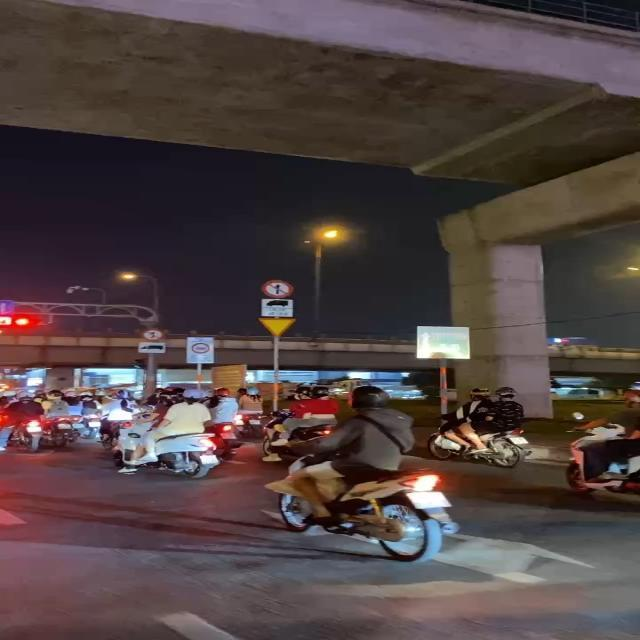136-cam-di-thang: (260, 279, 294, 298), (142, 328, 166, 341)
208-giao-nhau-voi-duong-uu-tien: (256, 317, 297, 337)
